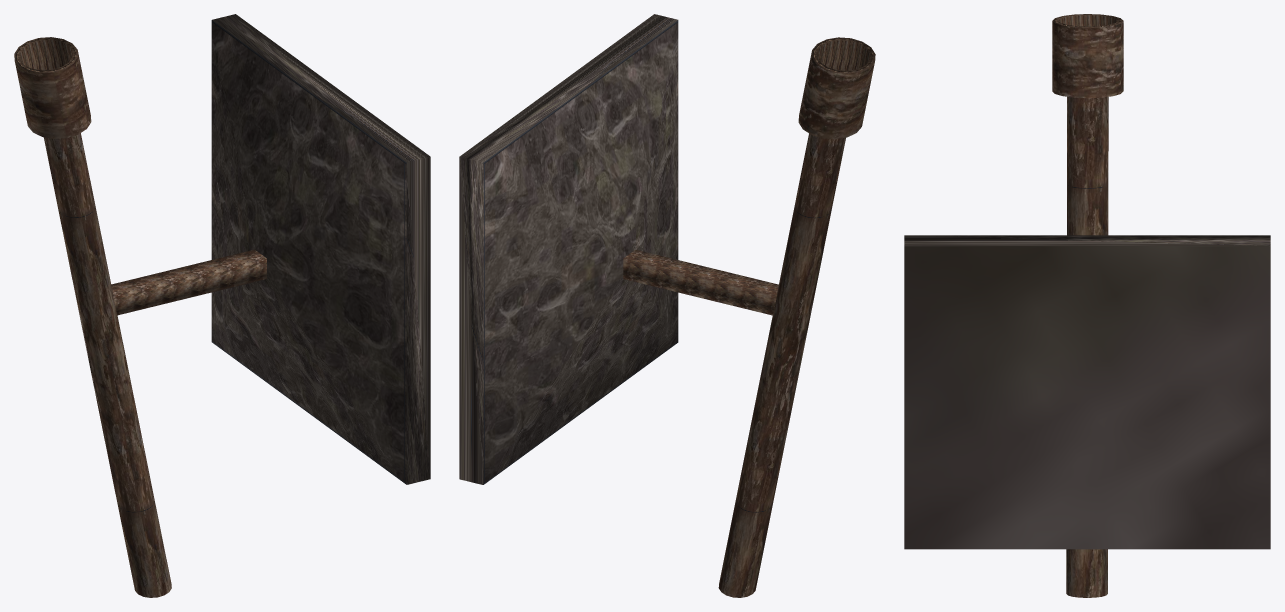
File: Amazonie_Torche_Murale.fbx
The picture shows the model from 3 angles, left to right: view 1: azimuth 30°, elevation 25°; view 2: azimuth 150°, elevation 25°; view 3: azimuth 270°, elevation 25°; orthographic projection. The views are drawn at different scales.
Parts seen in each view (by area): view 1: Cube, Cylinder, Cube.001; view 2: Cube, Cylinder, Cube.001; view 3: Cube, Cylinder.
Boxes of the visible parts, x1=… form: Cube: x1=211, y1=14, x2=430, y2=484; Cylinder: x1=14, y1=37, x2=171, y2=597; Cube.001: x1=111, y1=249, x2=266, y2=315; Cube: x1=459, y1=14, x2=678, y2=484; Cylinder: x1=718, y1=37, x2=875, y2=597; Cube.001: x1=623, y1=249, x2=778, y2=315; Cube: x1=904, y1=235, x2=1270, y2=549; Cylinder: x1=1052, y1=14, x2=1123, y2=597.
Bounding box in the file's own units: 76.89 × 133 × 82.94.
